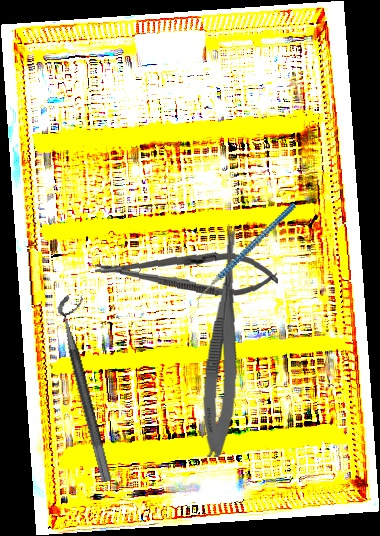Chopper: (174, 202, 318, 310)
Fixation Ring: (54, 292, 128, 483)
Micro Scissor: (199, 222, 245, 459)
Needle Holder: (93, 245, 280, 299)
